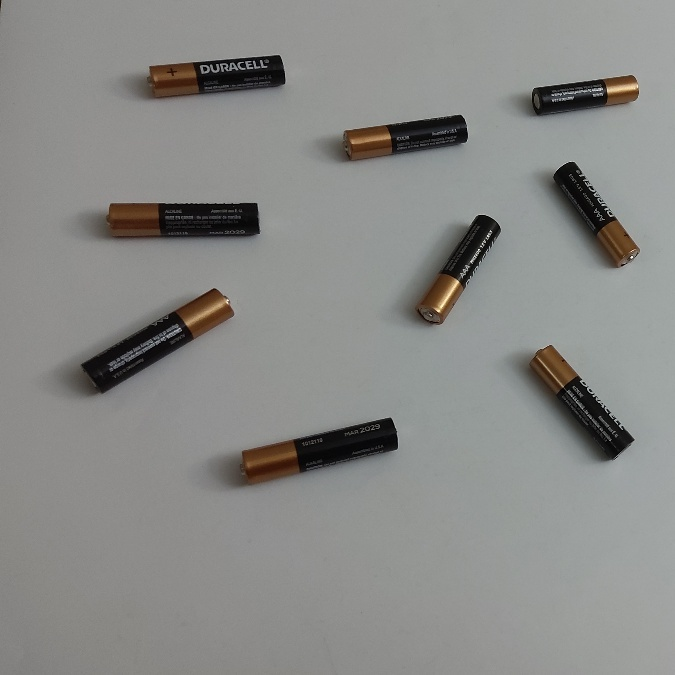battery: (74, 276, 240, 405), (522, 332, 638, 469), (229, 412, 403, 491), (542, 154, 648, 279), (404, 205, 503, 335), (101, 189, 262, 252), (134, 45, 291, 102), (330, 106, 472, 164), (519, 66, 647, 124)
